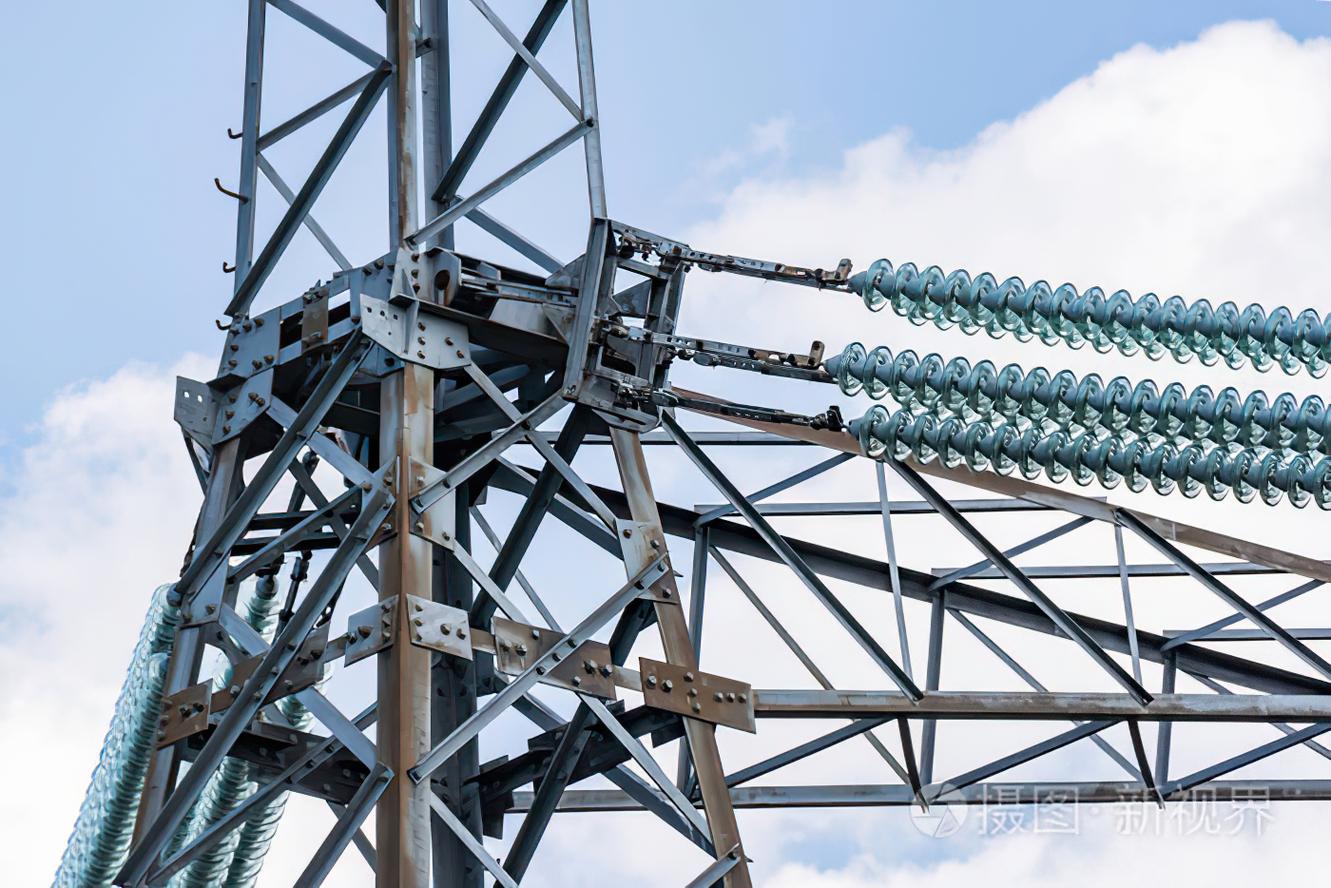insulator: (836, 341, 1331, 512), (857, 257, 1331, 381), (184, 591, 327, 888), (49, 583, 182, 888)
